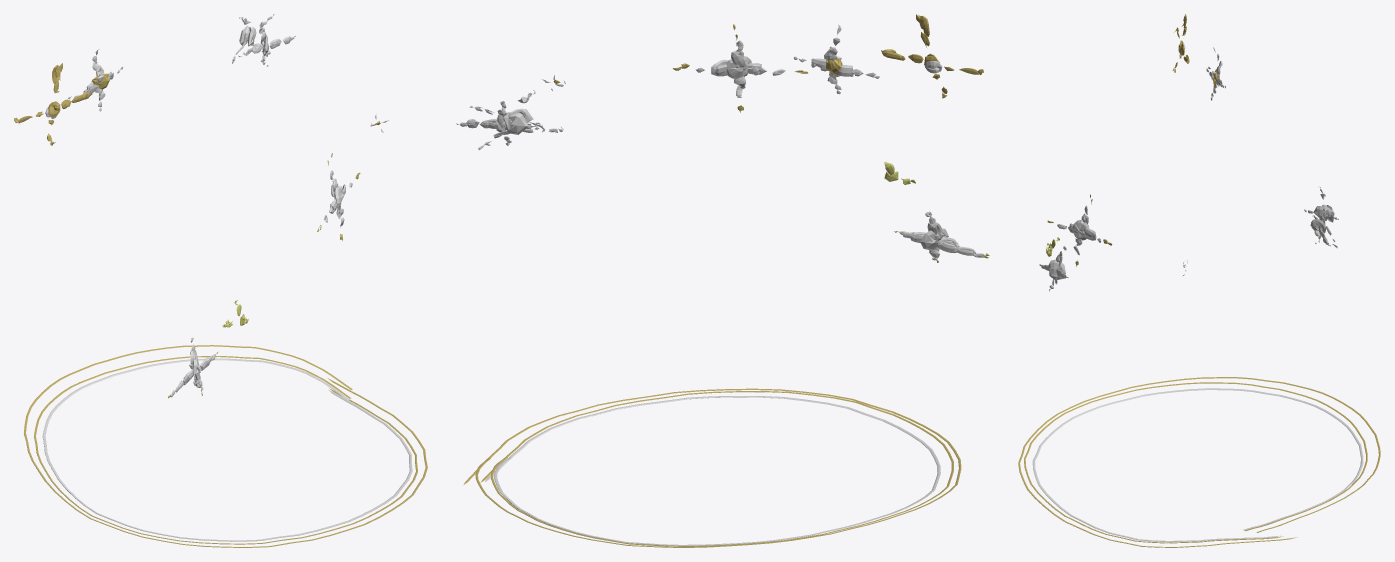
Rendered from Cheer.fbx.
3 renders of one model, left to right at view 1: azimuth 30°, elevation 25°; view 2: azimuth 150°, elevation 25°; view 3: azimuth 270°, elevation 25°, orthographic. The views are drawn at different scales.
Visible parts, largest first — view 1: Cheer; view 2: Cheer; view 3: Cheer.
Boxes of the visible parts, <box> form: Cheer: <box>14,14,427,547</box>; Cheer: <box>456,14,989,547</box>; Cheer: <box>1018,14,1380,547</box>.
Bounding box in the file's own units: 1.93 × 2.09 × 1.77.
